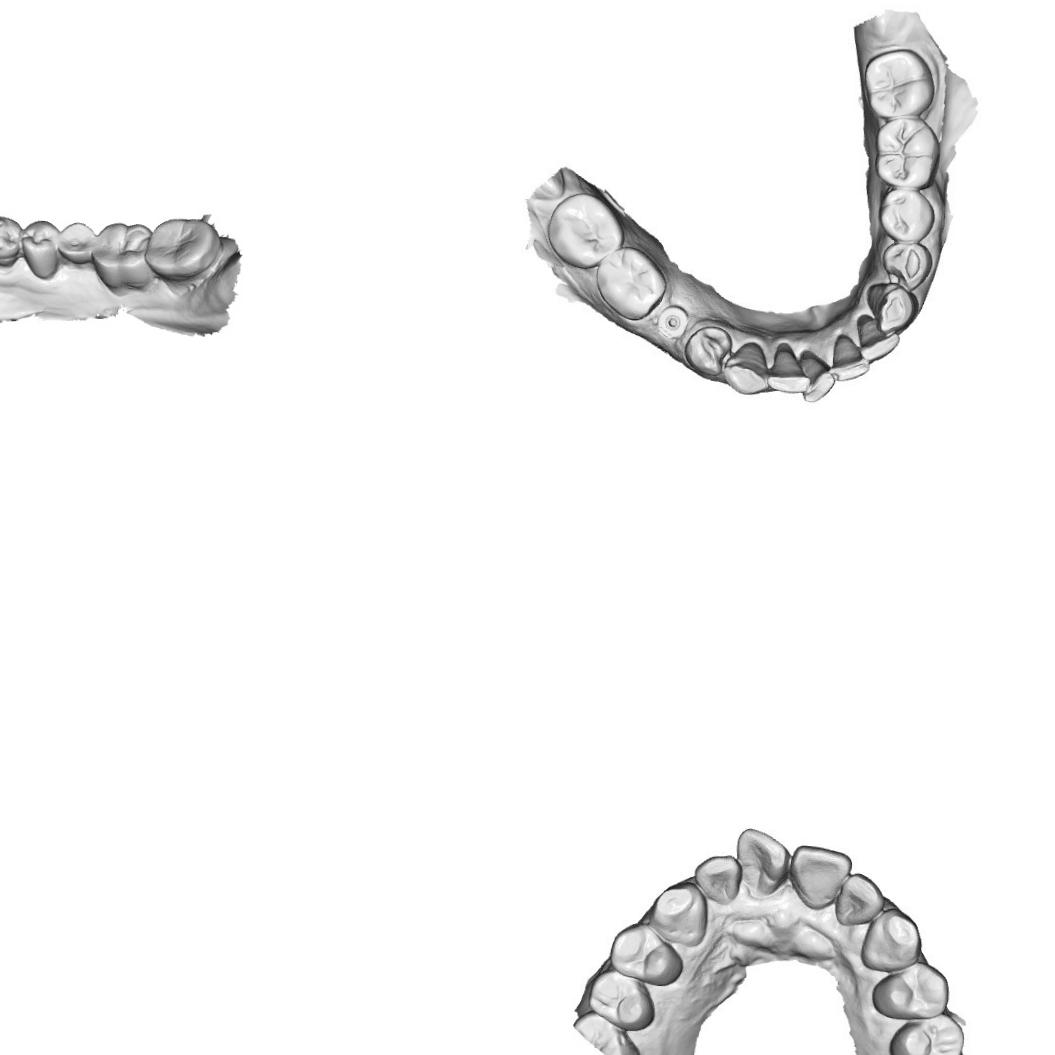canine: (859, 906, 924, 974), (650, 880, 710, 949), (721, 340, 773, 398), (866, 278, 916, 334)
implant: (654, 306, 689, 344)
incisor: (732, 824, 794, 900), (788, 844, 849, 910), (832, 872, 880, 928), (695, 852, 745, 904), (765, 343, 811, 399), (828, 334, 872, 386), (855, 315, 901, 364), (798, 352, 838, 406)
molar: (542, 190, 626, 269), (144, 203, 220, 286), (861, 47, 940, 123), (592, 244, 667, 322), (870, 112, 941, 191), (92, 218, 158, 288), (54, 218, 102, 270)
premolar: (870, 960, 951, 1025), (608, 920, 683, 986), (586, 966, 656, 1031), (878, 187, 938, 246), (885, 1012, 963, 1055), (18, 218, 68, 282), (684, 321, 732, 381), (880, 238, 933, 290), (0, 213, 25, 273)
